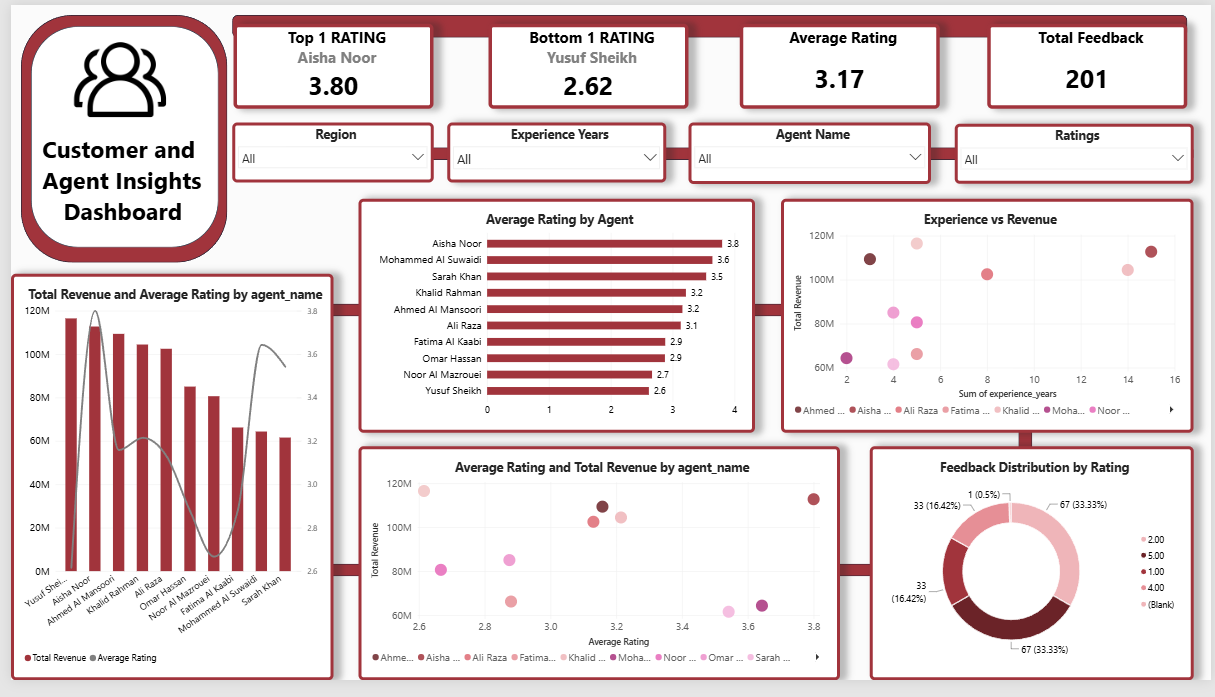

The page's visual inventory and layout, read from the dashboard file:
{"tool":"powerbi","page":{"name":"Page 4","canvas":[1920,1080],"ordinal":3},"visuals":[{"type":"shape","box":[392,478,1434,20],"z":0},{"type":"shape","box":[196,894,1528,20],"z":1000},{"type":"clusteredBarChart","title":"Average Rating by Agent","fields":{"Category":["clean agents.agent_name"],"Y":["clean sales.Average Rating"]},"box":[556,310,634,374],"z":2000},{"type":"shape","box":[454,542,22,246],"z":3000},{"type":"shape","box":[1612,540,22,246],"z":4000},{"type":"shape","box":[364,228,1528,20],"z":5000},{"type":"shape","box":[354,16,1528,36],"z":6000},{"type":"shape","box":[16,16,330,396],"z":7000},{"type":"cardVisual","title":"Top 1 RATING","fields":{"Rows":["clean agents.agent_name"],"Data":["clean sales.Average Rating"]},"box":[356,30,320,136],"z":8000},{"type":"donutChart","title":"Feedback Distribution by Rating","fields":{"Category":["clean customer_feedback.rating"],"Y":["CountNonNull(clean customer_feedback.feedback_id)"]},"box":[1374,706,518,374],"z":9000},{"type":"scatterChart","fields":{"X":["clean sales.Average Rating"],"Y":["clean sales.Total Revenue"],"Series":["clean agents.agent_name"]},"box":[556,706,770,374],"z":10000},{"type":"lineClusteredColumnComboChart","fields":{"Y":["clean sales.Total Revenue"],"Y2":["clean sales.Average Rating"],"Category":["clean agents.agent_name"]},"box":[0,430,516,650],"z":11000},{"type":"slicer","title":"Experience Years","fields":{"Values":["clean agents.experience_years"]},"box":[698,188,350,96],"z":12000},{"type":"slicer","title":"Agent Name","fields":{"Values":["clean agents.agent_name"]},"box":[1084,188,388,98],"z":13000},{"type":"slicer","title":"Ratings","fields":{"Values":["clean customer_feedback.rating"]},"box":[1510,190,382,96],"z":14000},{"type":"slicer","title":"Region","fields":{"Values":["clean agents.region"]},"box":[354,188,322,96],"z":15000},{"type":"cardVisual","title":"Bottom 1 RATING","fields":{"Rows":["clean agents.agent_name"],"Data":["clean sales.Average Rating"]},"box":[764,30,320,136],"z":16000},{"type":"cardVisual","title":"Average Rating","fields":{"Data":["clean sales.Average Rating"]},"box":[1166,30,320,136],"z":17000},{"type":"cardVisual","title":"Total Feedback","fields":{"Data":["clean agents.Total Feedback Records"]},"box":[1562,30,320,136],"z":18000},{"type":"scatterChart","title":"Experience vs Revenue","fields":{"Y":["clean sales.Total Revenue"],"Series":["clean agents.agent_name"],"X":["Sum(clean agents.experience_years)"]},"box":[1232,310,660,374],"z":19000},{"type":"shape","box":[32,34,300,354],"z":20000},{"type":"image","box":[50,34,252,170],"z":21000},{"type":"textbox","box":[50,204,268,416],"z":22000}]}

Visuals, with their boxes in screenshot pixels (x1, y1, x2, y2), scaled from the page's 1920x1080 canvas onto the 1215x697 screenshot:
shape: 248, 308, 1156, 321
shape: 124, 577, 1091, 590
"Average Rating by Agent" clusteredBarChart: 352, 200, 753, 441
shape: 287, 350, 301, 509
shape: 1020, 348, 1034, 507
shape: 230, 147, 1197, 160
shape: 224, 10, 1191, 34
shape: 10, 10, 219, 266
"Top 1 RATING" cardVisual: 225, 19, 428, 107
"Feedback Distribution by Rating" donutChart: 869, 456, 1197, 696
scatterChart - clean sales.Average Rating x clean sales.Total Revenue: 352, 456, 839, 696
lineClusteredColumnComboChart - clean sales.Total Revenue x clean sales.Average Rating: 0, 278, 327, 696
"Experience Years" slicer: 442, 121, 663, 183
"Agent Name" slicer: 686, 121, 932, 185
"Ratings" slicer: 956, 123, 1197, 185
"Region" slicer: 224, 121, 428, 183
"Bottom 1 RATING" cardVisual: 483, 19, 686, 107
"Average Rating" cardVisual: 738, 19, 940, 107
"Total Feedback" cardVisual: 988, 19, 1191, 107
"Experience vs Revenue" scatterChart: 780, 200, 1197, 441
shape: 20, 22, 210, 250
image: 32, 22, 191, 132
textbox: 32, 132, 201, 400
